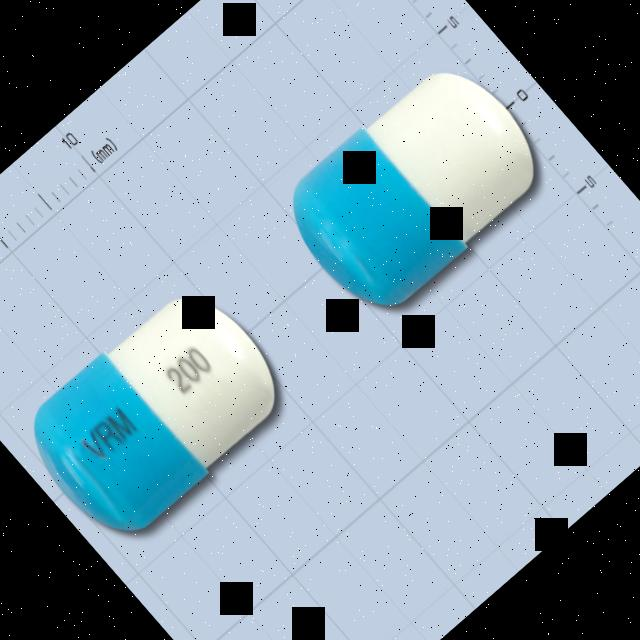Viramid Cap-200mg: (9, 269, 303, 555)
